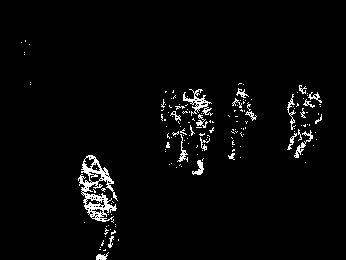person: (77, 153, 118, 260), (224, 80, 257, 161), (294, 90, 326, 161), (192, 85, 215, 177), (173, 87, 199, 164), (285, 82, 305, 153)
